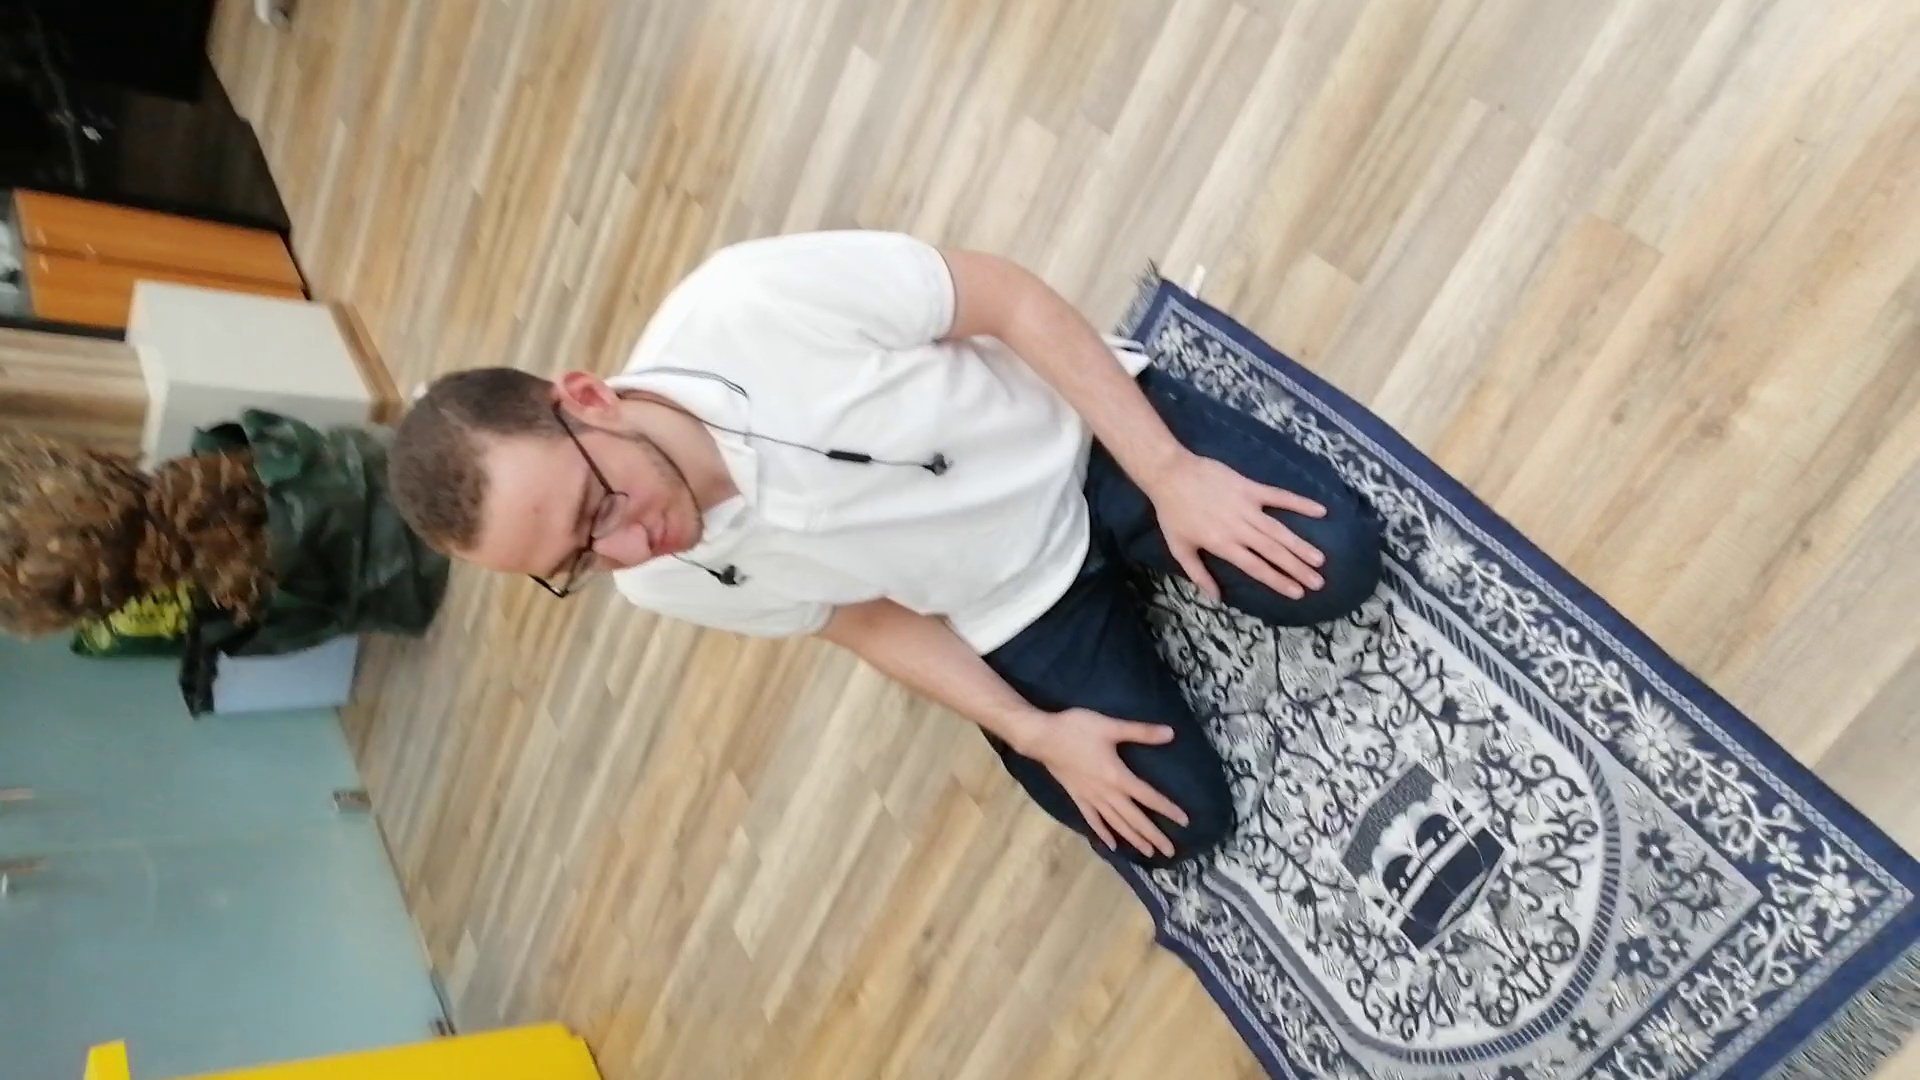sitting: (371, 212, 1395, 877)
